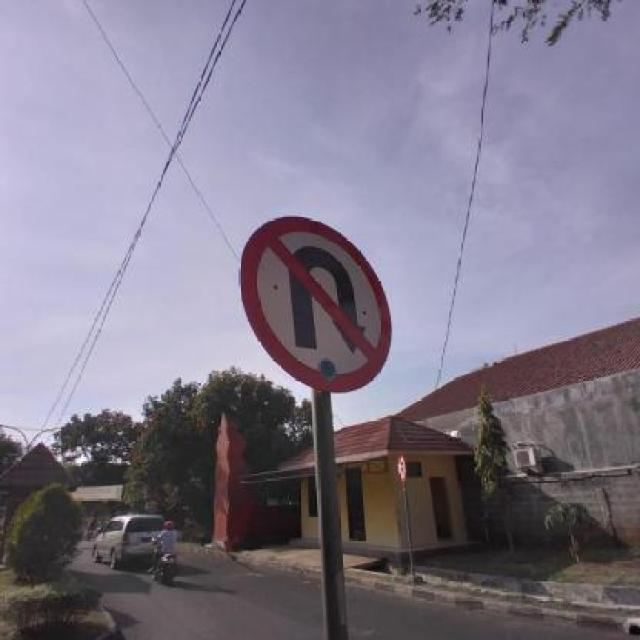u turn prohibited: (233, 208, 414, 389)
